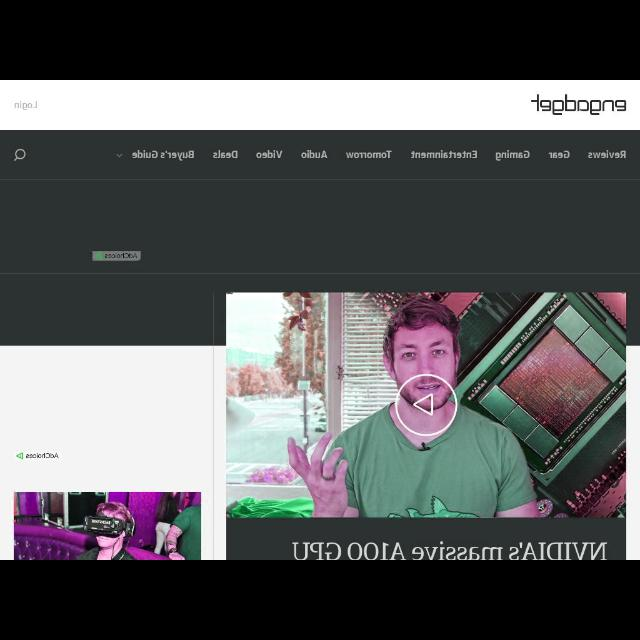icon: (12, 146, 28, 166), (114, 150, 125, 162), (94, 250, 102, 260), (16, 452, 24, 462)
image: (227, 294, 625, 516), (14, 492, 202, 558), (530, 94, 626, 118)
spinner: (107, 145, 199, 169)
text: (292, 540, 608, 558), (131, 149, 195, 161), (344, 148, 394, 162), (409, 150, 478, 160), (494, 150, 532, 162), (586, 150, 628, 160), (254, 149, 284, 163), (11, 100, 39, 114), (105, 250, 139, 260), (546, 148, 570, 162), (300, 149, 328, 161), (212, 149, 238, 161), (26, 452, 60, 461)
toolbar: (1, 81, 639, 179)
